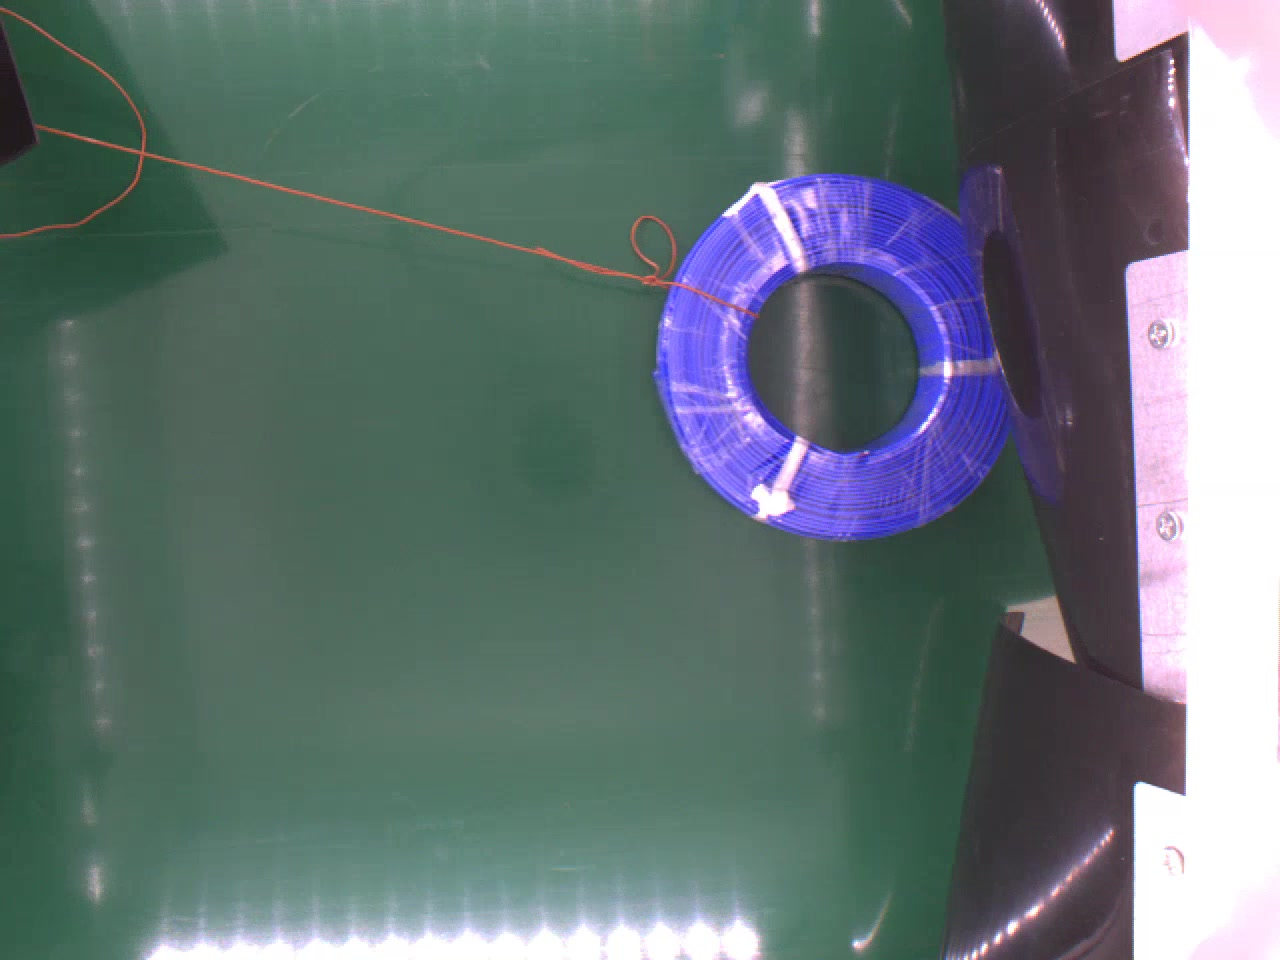blue: (657, 168, 1012, 543)
